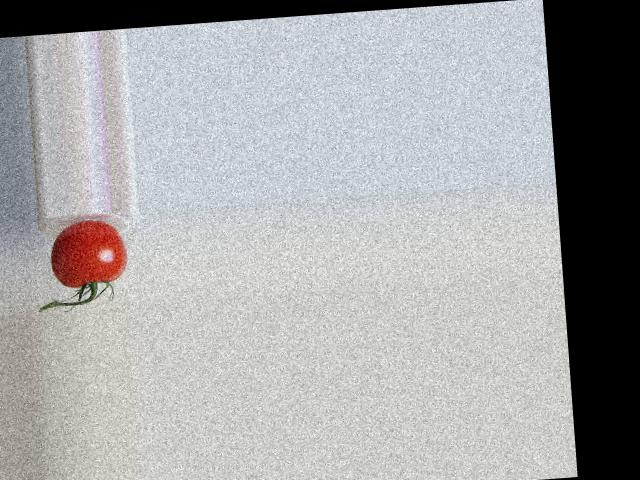tomato: (47, 217, 128, 289)
